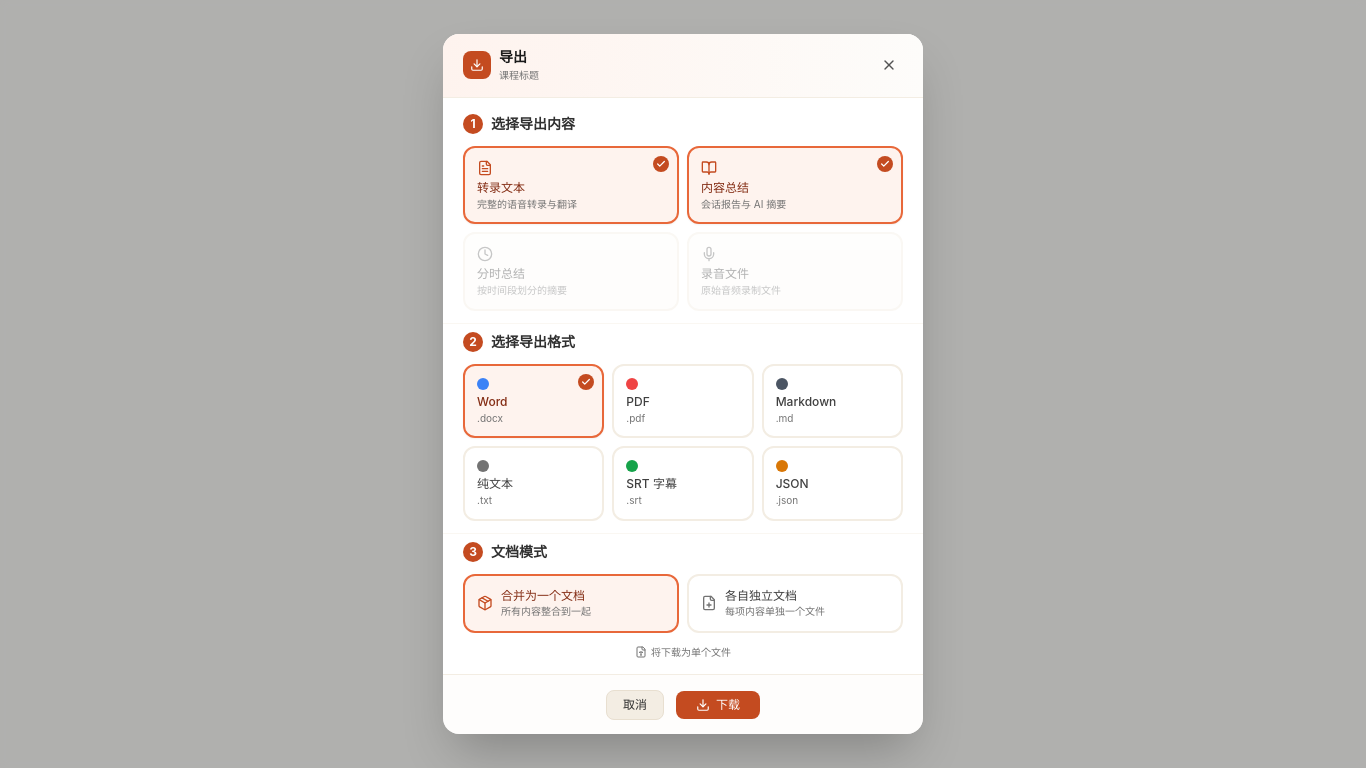
it: ExportModal › 选择 SRT 后会自动收敛为仅转录文本，并禁用 summary 类内容
Expected: the text "文档模式" is shown, 491,542 -> 547,562
Click the button "SRT 字幕 .srt": x=683, y=484 612,446 -> 754,521
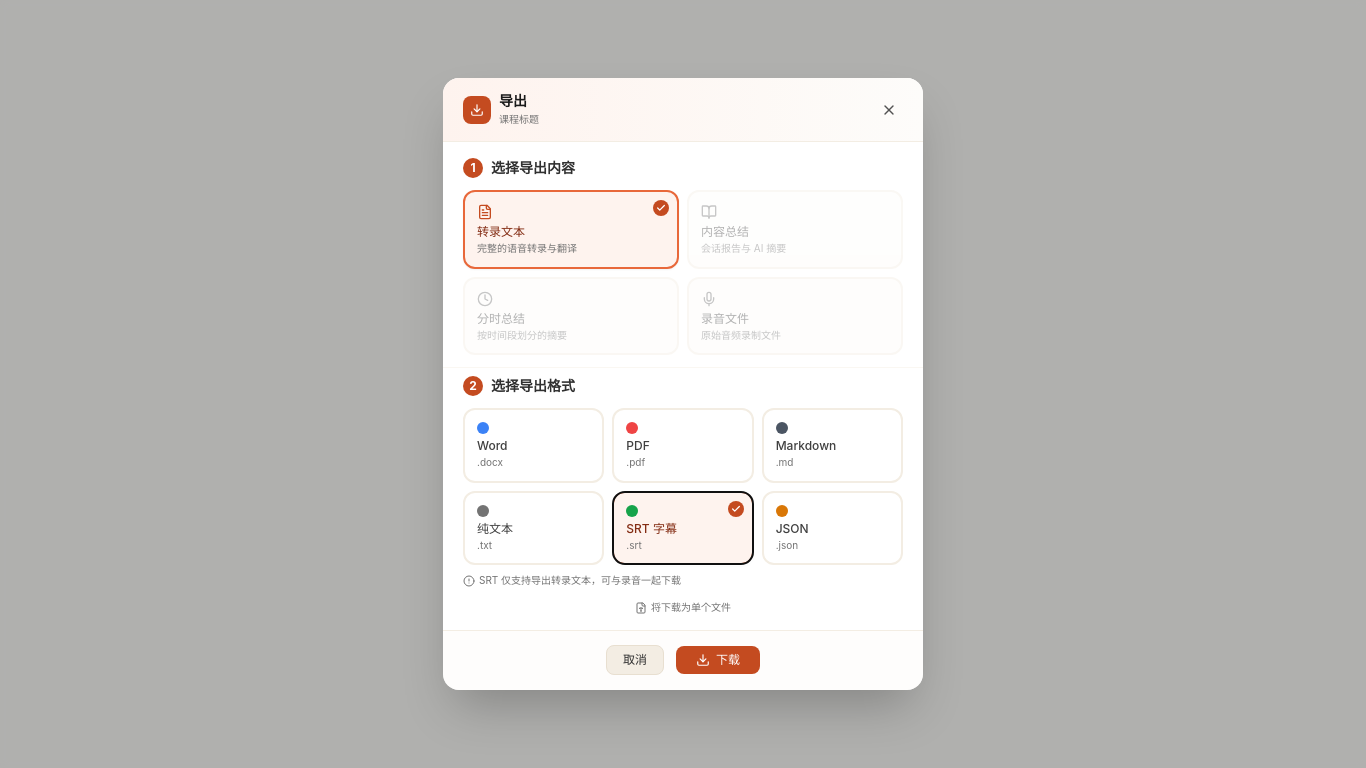
Expected: the text "文档模式" is gone
Expected: the button "内容总结 会话报告与 AI 摘要" is disabled, 687,190 -> 903,269
Expected: the text "SRT 仅支持导出转录文本，可与录音一起下载" is shown, 463,574 -> 681,587
